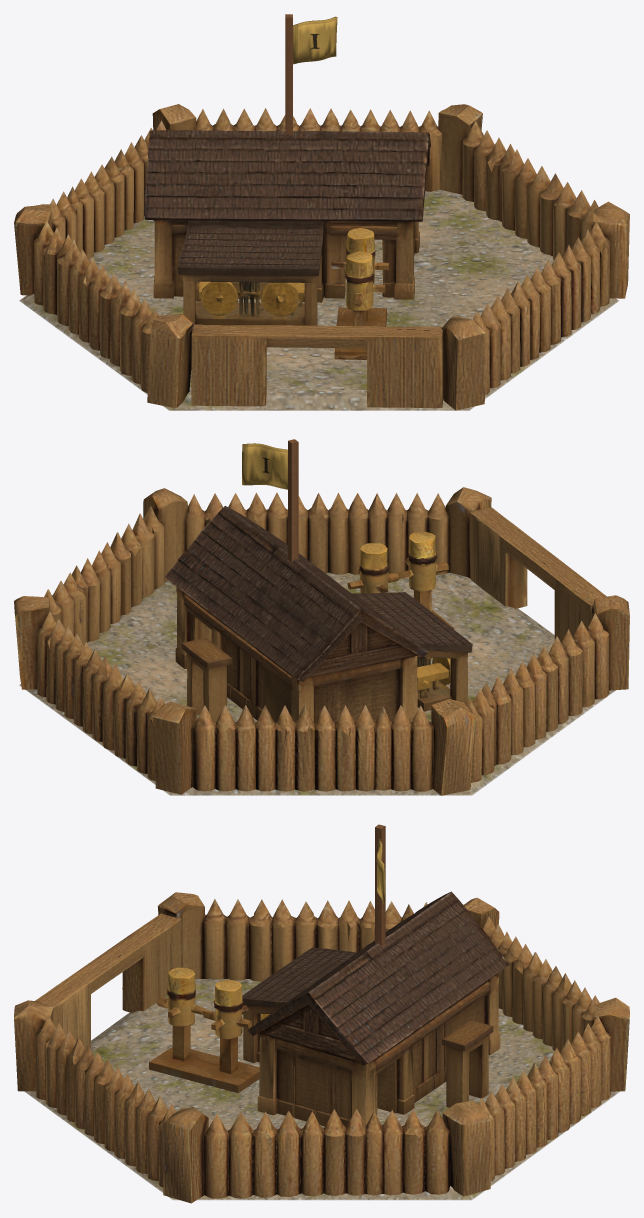
The model's file is barracks-1.glb.
The picture shows the model from 3 angles, top to bottom: view 1: azimuth 30°, elevation 25°; view 2: azimuth 150°, elevation 25°; view 3: azimuth 270°, elevation 25°; orthographic projection.
Parts seen in each view (by area): view 1: architecture, ground, tier-banner; view 2: architecture, ground, tier-banner; view 3: architecture, ground.
Part boxes in pixels (bbox=[...]): architecture: bbox=[14, 14, 629, 410]; ground: bbox=[19, 190, 619, 410]; tier-banner: bbox=[293, 16, 337, 64]; architecture: bbox=[14, 439, 629, 795]; ground: bbox=[19, 572, 615, 795]; tier-banner: bbox=[242, 443, 287, 489]; architecture: bbox=[14, 824, 629, 1203]; ground: bbox=[24, 979, 620, 1200].
Bounding box in the file's own units: 1.71 × 0.8922 × 1.89.
Materials: 3 (3 with a texture image).
